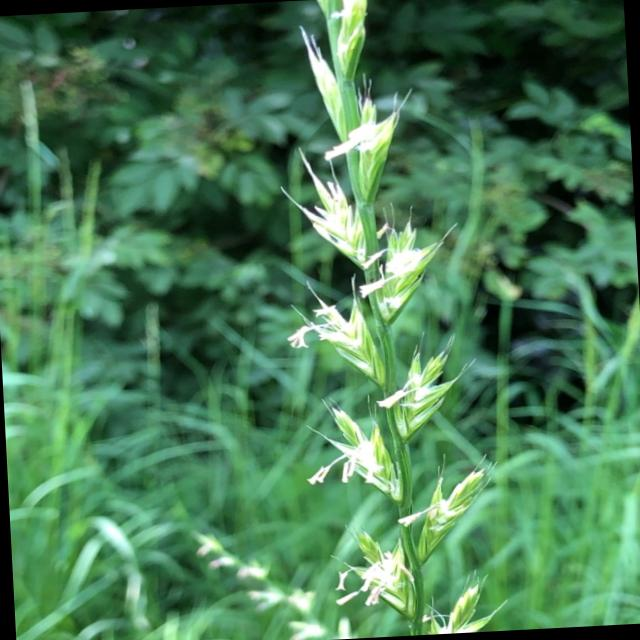Lolium: (265, 0, 507, 639)
